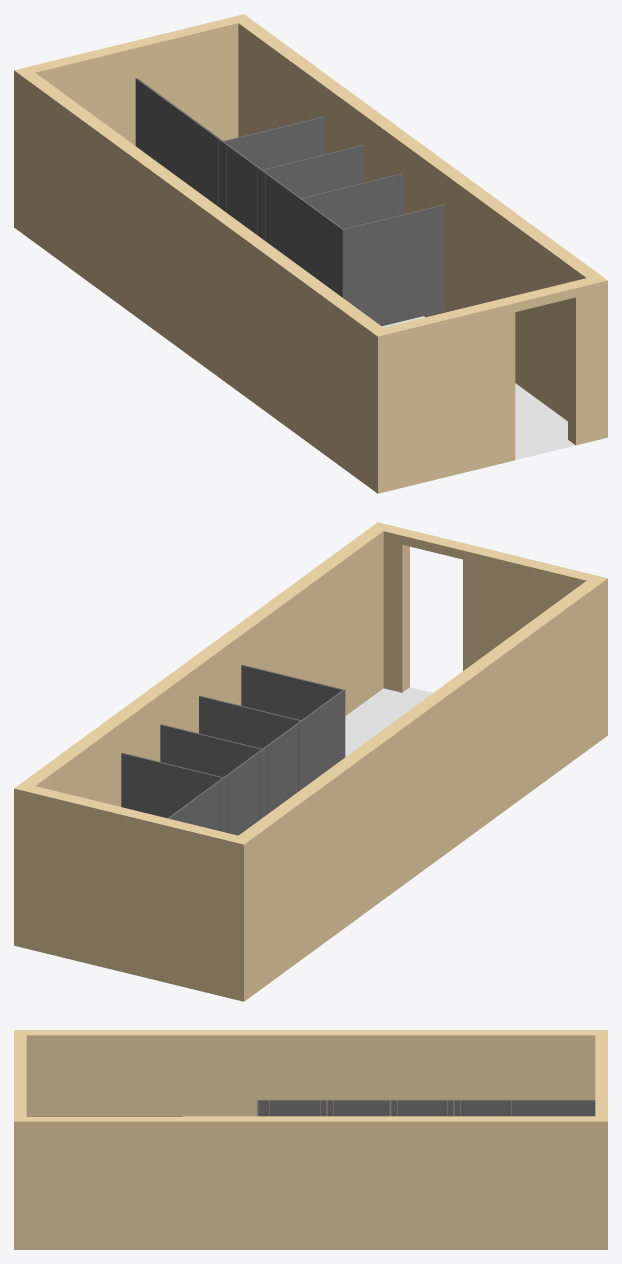
The model's file is bathroom_test.fbx.
The picture shows the model from 3 angles, top to bottom: view 1: azimuth 30°, elevation 25°; view 2: azimuth 150°, elevation 25°; view 3: azimuth 270°, elevation 25°; orthographic projection. The views are drawn at different scales.
Parts seen in each view (by area): view 1: Walls, Stall_Panels, Floor; view 2: Walls, Stall_Panels, Floor; view 3: Walls, Stall_Panels.
Boxes of the visible parts, bbox=[...] form: Walls: bbox=[14, 14, 607, 493]; Stall_Panels: bbox=[135, 78, 445, 326]; Floor: bbox=[382, 316, 575, 460]; Walls: bbox=[14, 522, 607, 1001]; Stall_Panels: bbox=[121, 664, 345, 835]; Floor: bbox=[345, 687, 432, 756]; Walls: bbox=[14, 1030, 607, 1249]; Stall_Panels: bbox=[257, 1100, 595, 1116].
Size of the model in its own units: 3.47 by 9.5 by 2.26.
